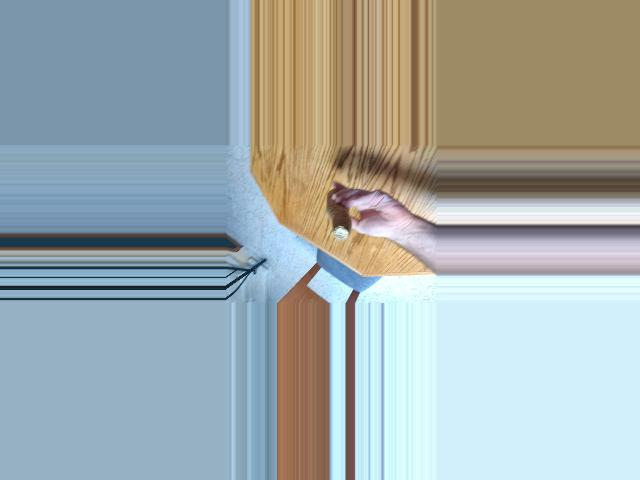sweet_potato: (324, 186, 364, 247)
